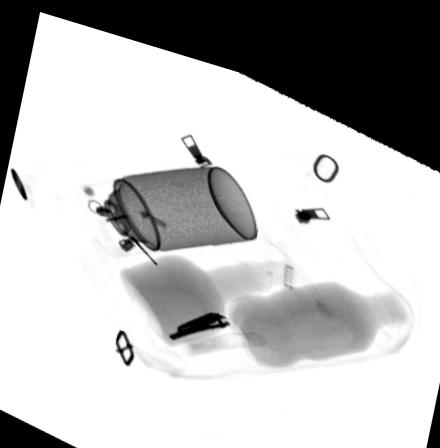Sprayer: (73, 152, 257, 251)
